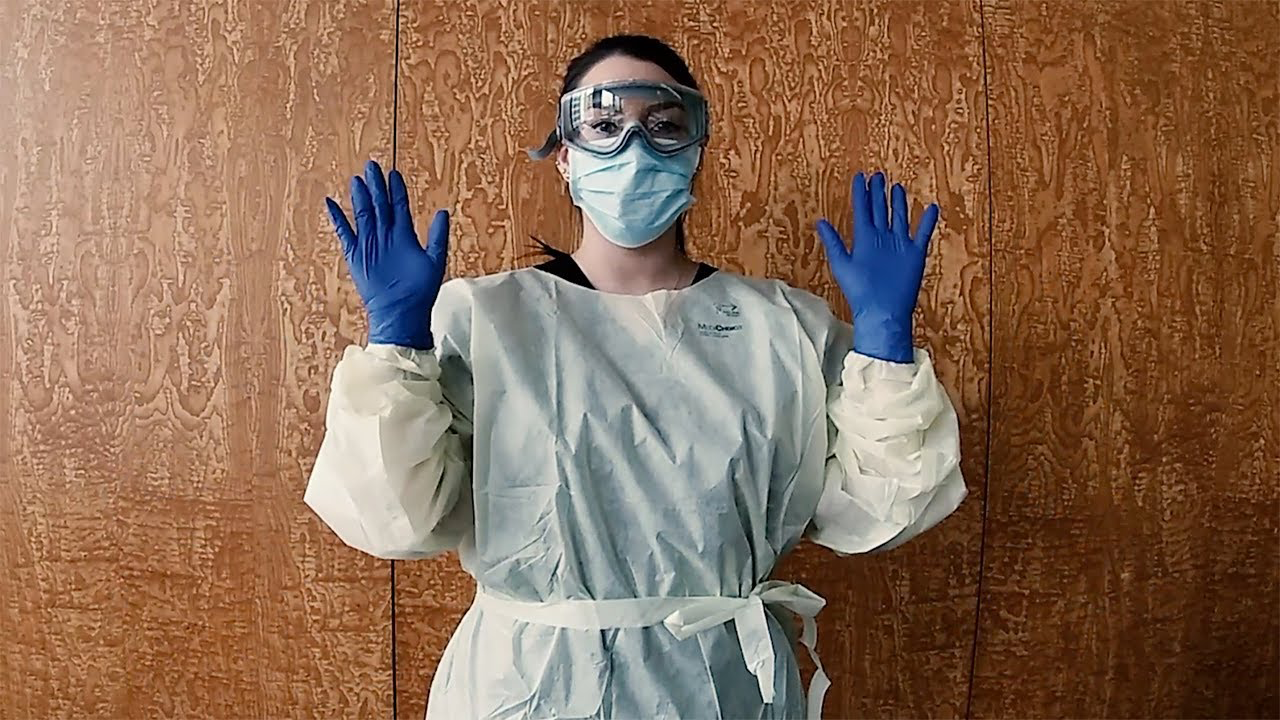Coverall: (305, 268, 967, 716)
Gloves: (815, 169, 943, 362), (324, 161, 450, 348)
Goggles: (555, 79, 711, 159)
with_mask: (560, 129, 705, 249)
